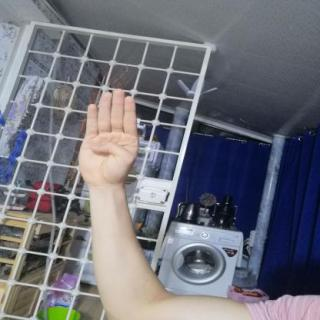KAAF: (68, 82, 150, 195)
